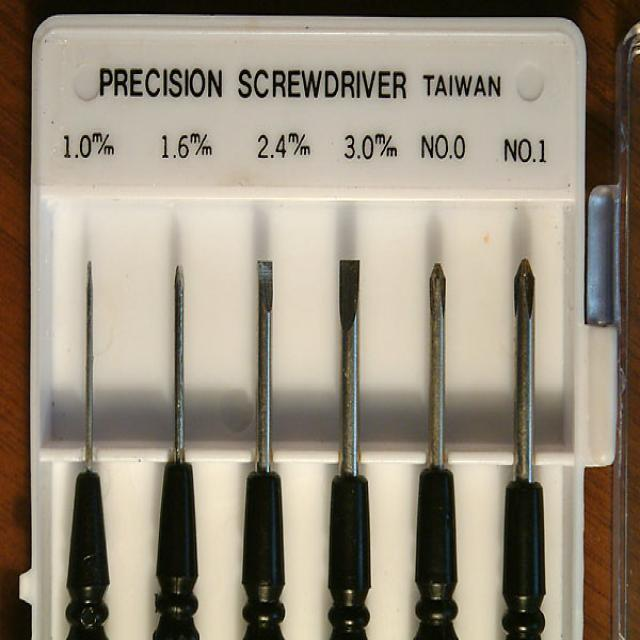screw_driver: (308, 251, 395, 640), (493, 244, 573, 640), (412, 250, 483, 640), (63, 251, 134, 640), (145, 251, 215, 640), (236, 259, 296, 640)
